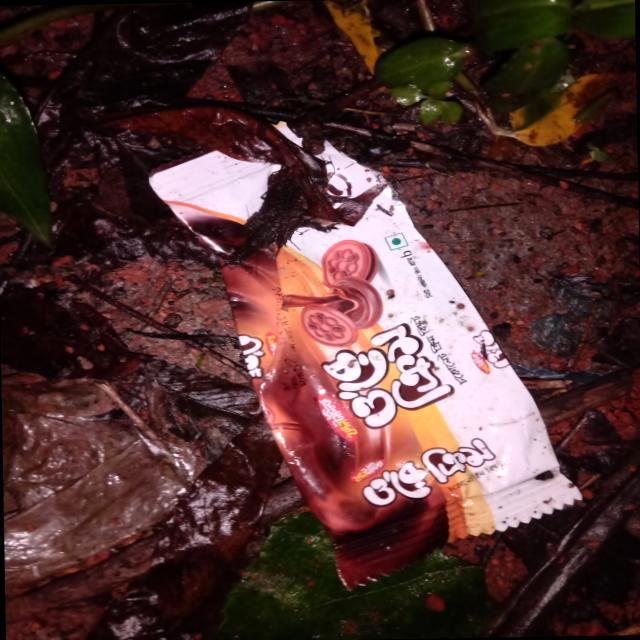packet: (226, 127, 501, 566)
